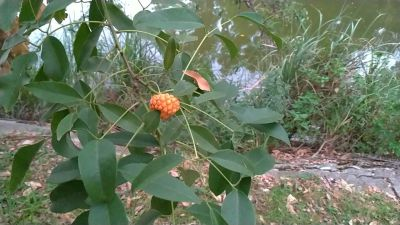eggs: (152, 91, 180, 119)
